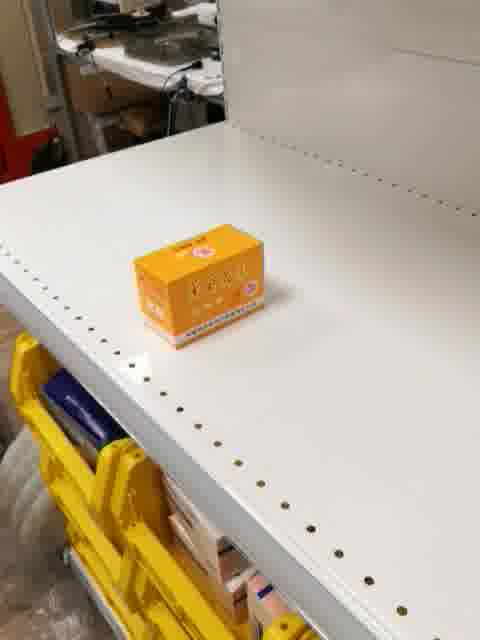jasminetea: (132, 222, 266, 352)
